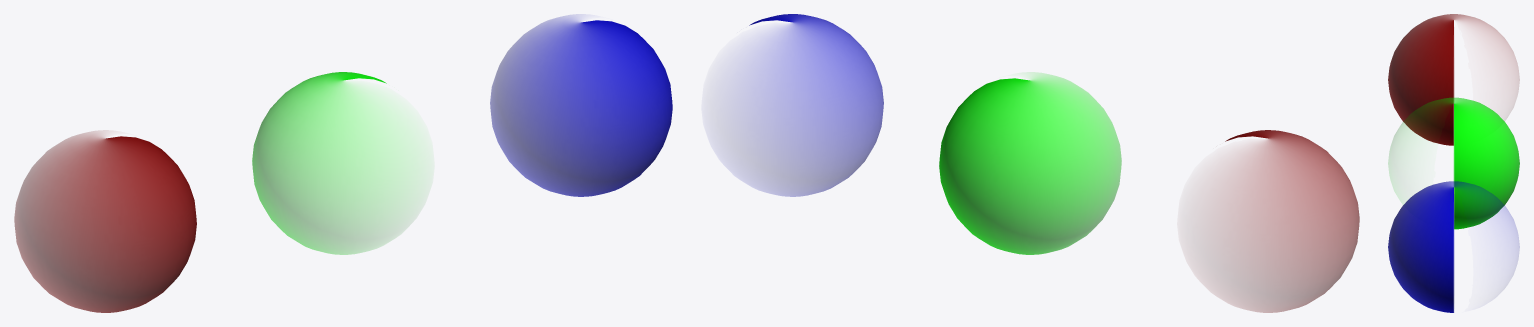
File: Blend.gltf
3 views of the same model, side by side, from view 1: azimuth 30°, elevation 25°; view 2: azimuth 150°, elevation 25°; view 3: azimuth 270°, elevation 25° (orthographic). The views are drawn at different scales.
Parts seen in each view (by area): view 1: StandardMesh, StandardSurfaceMesh, PhysicalMesh; view 2: PhysicalMesh, StandardSurfaceMesh, StandardMesh; view 3: StandardSurfaceMesh, StandardMesh, PhysicalMesh.
Boxes of the visible parts, box(x1,y1,x2,y2) form: StandardMesh: box(14, 131, 196, 312); StandardSurfaceMesh: box(490, 15, 672, 196); PhysicalMesh: box(252, 72, 411, 254); PhysicalMesh: box(939, 73, 1121, 254); StandardSurfaceMesh: box(723, 14, 883, 196); StandardMesh: box(1198, 130, 1359, 312); StandardSurfaceMesh: box(1388, 181, 1519, 312); StandardMesh: box(1388, 14, 1519, 145); PhysicalMesh: box(1388, 97, 1519, 229).
Bounding box in the file's own units: 8 × 2 × 2.
3 materials, 3 textured.
